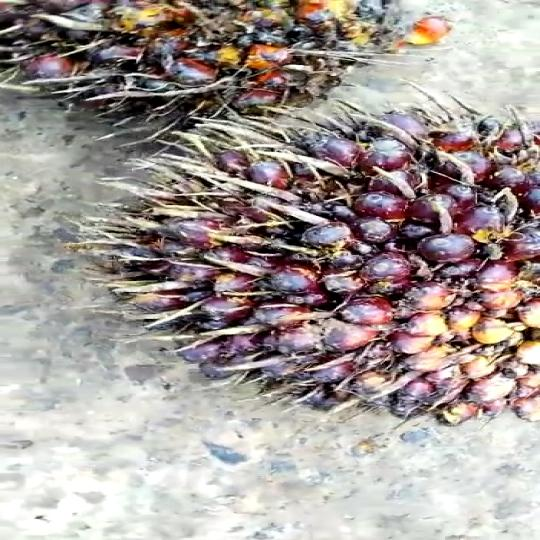masak: (114, 100, 540, 440)
